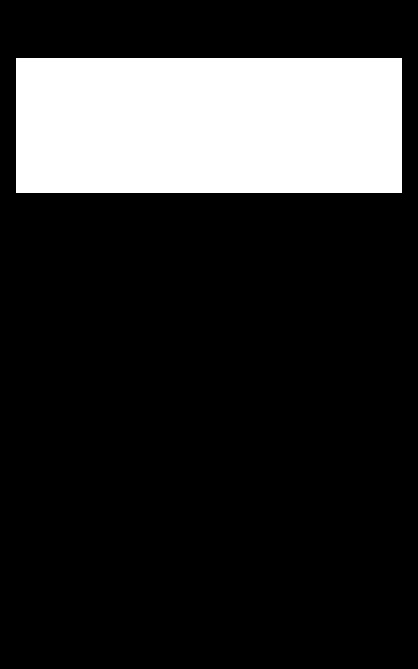table: (16, 58, 401, 192)
